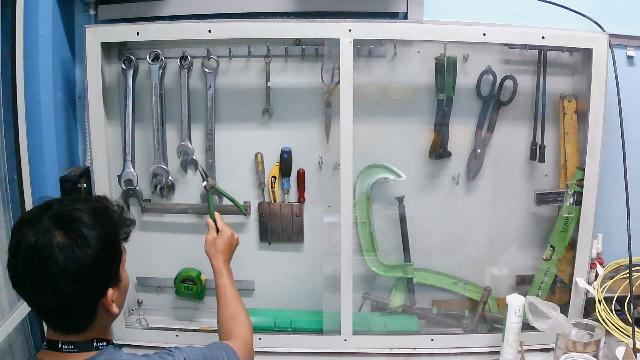tang_cucut_lancip_2: (193, 163, 249, 238)
